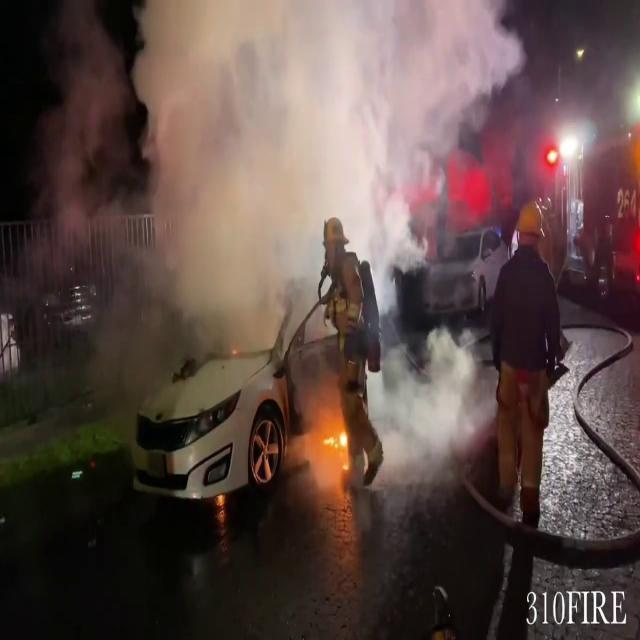Fire: (320, 414, 352, 470)
Smoke: (145, 0, 491, 298), (0, 0, 204, 405), (372, 316, 488, 490)
